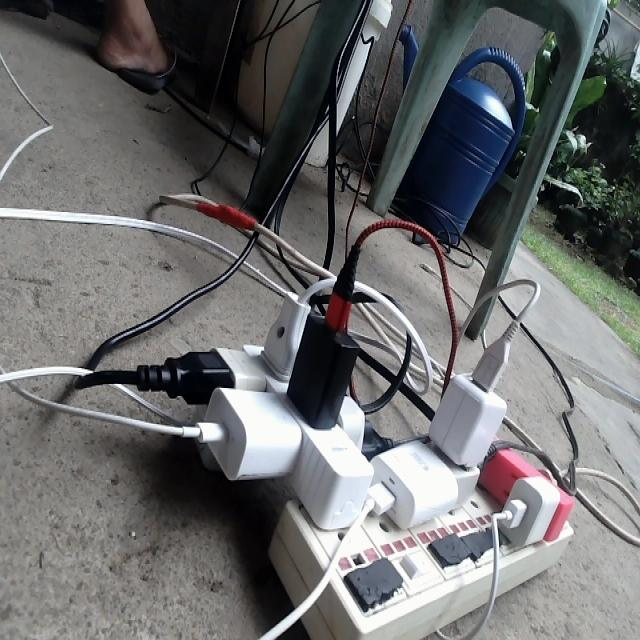-: (170, 259, 574, 636)
